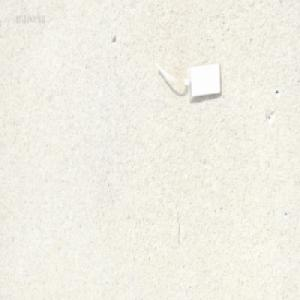LuggageTag: (152, 60, 223, 100)
